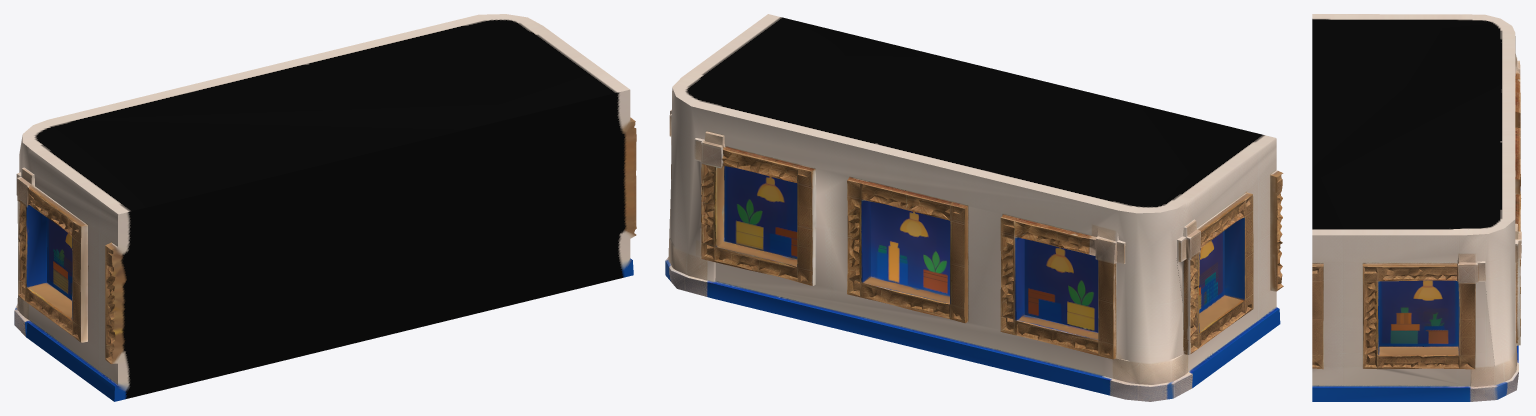
The model's file is 6-upper-walls-back.fbx.
The picture shows the model from 3 angles, left to right: view 1: azimuth 30°, elevation 25°; view 2: azimuth 150°, elevation 25°; view 3: azimuth 270°, elevation 25°; orthographic projection. The views are drawn at different scales.
Visible parts, largest first — view 1: upper-walls-back; view 2: upper-walls-back; view 3: upper-walls-back.
Part boxes in pixels (x1,y1,x2,y2): upper-walls-back: (14,14,636,401); upper-walls-back: (665,14,1283,401); upper-walls-back: (1312,14,1521,401).
Bounding box in the file's own units: 7645 × 2588 × 2974.
Materials: 1 (1 with a texture image).
